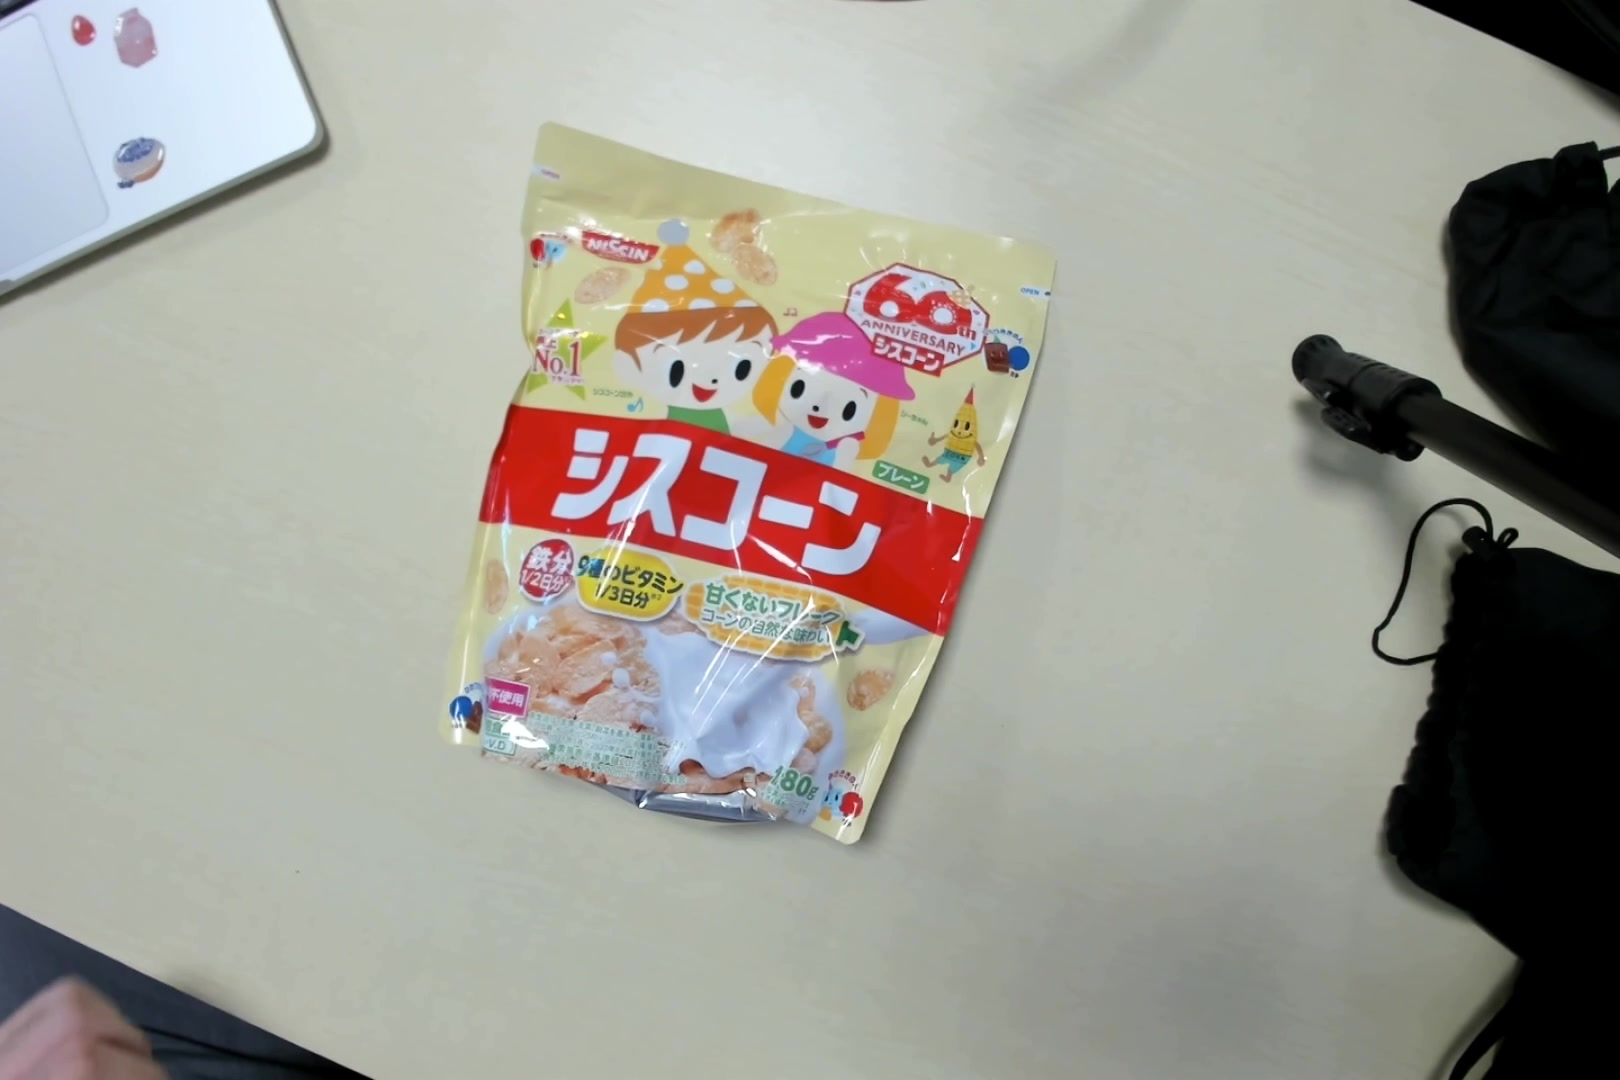BreakfastCereals_100-199g_NonHalal_NonHealthy: (463, 158, 1066, 846)
